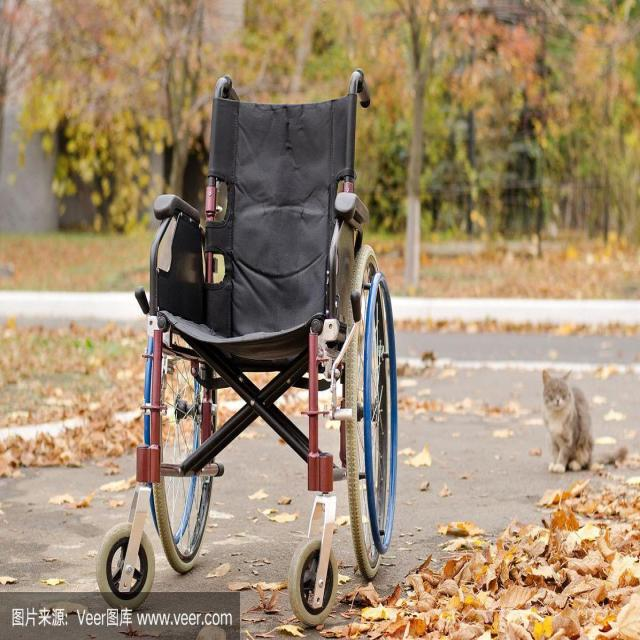wheelchairs: (86, 50, 402, 612)
